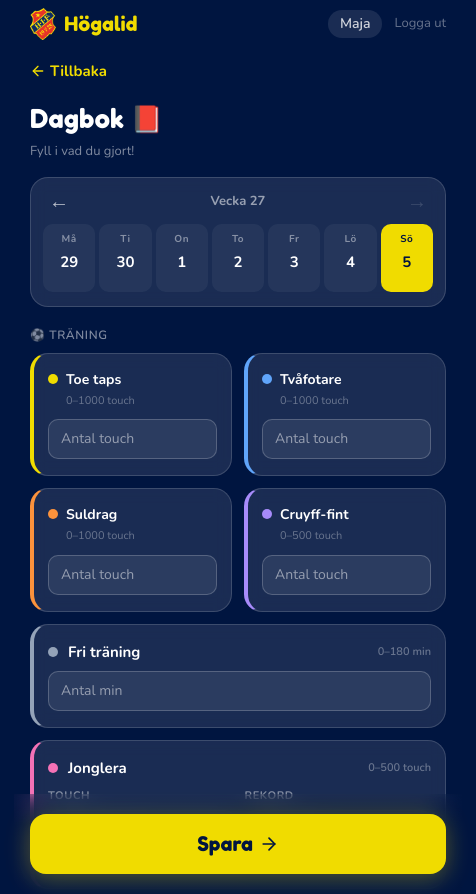
Test case: LogPage › blocks a below-threshold log and shows the warning
Type "2" into the field with placeholder "Antal min" at x=240, y=691, box [48,671,431,711]
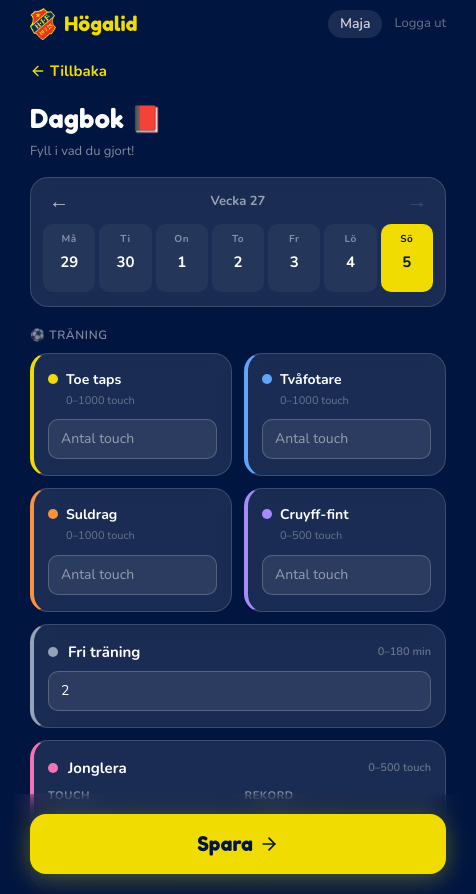
Click the button "Spara" at x=238, y=844, box [30,814,446,874]
(page scrolled)
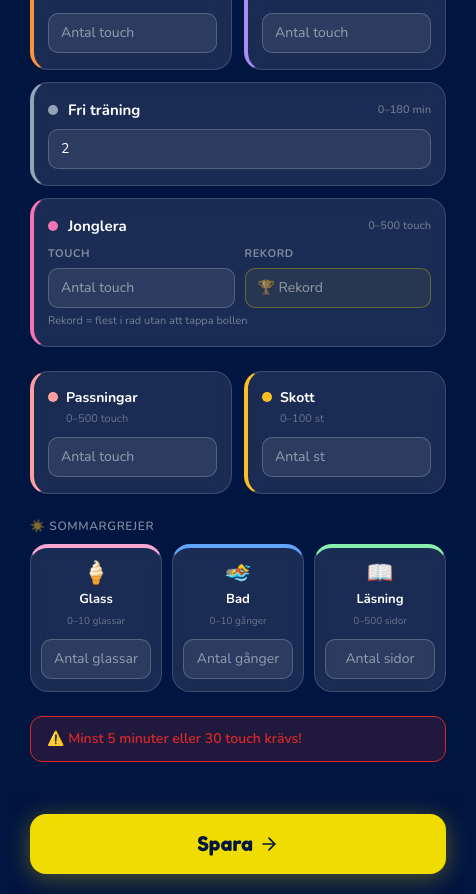
Now the text "⚠️ Minst 5 minuter eller 30 touch krävs!" is shown, box [30,716,446,762]
